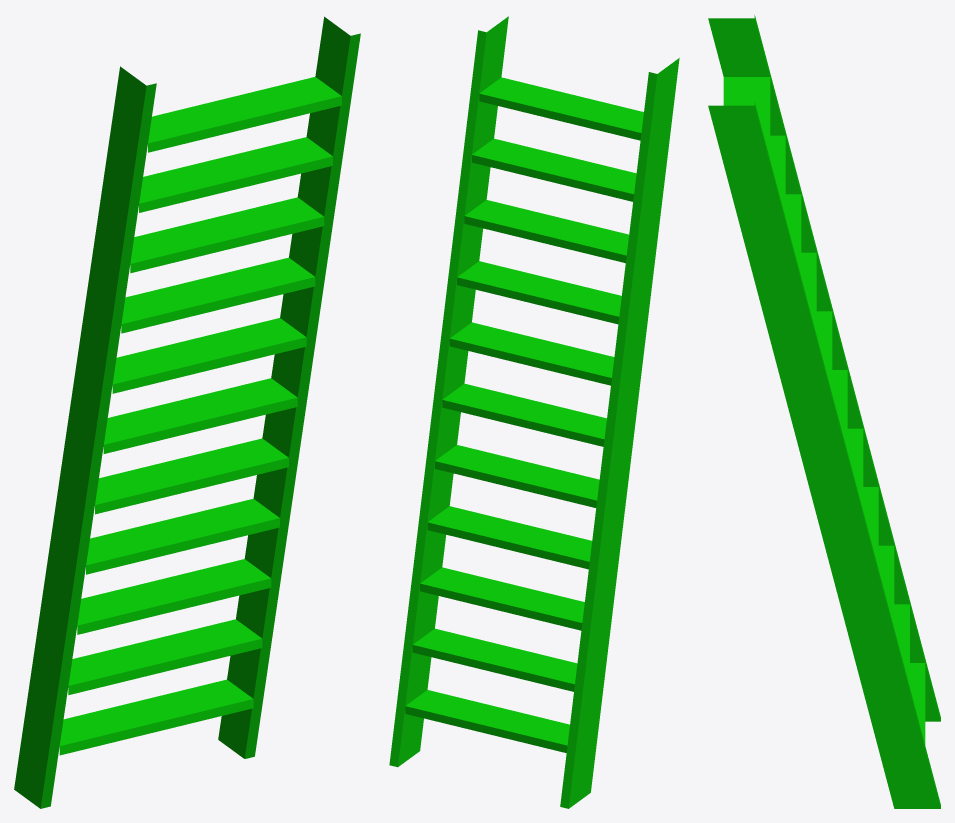
Rendered from stair_steep.glb.
The picture shows the model from 3 angles, left to right: view 1: azimuth 30°, elevation 25°; view 2: azimuth 150°, elevation 25°; view 3: azimuth 270°, elevation 25°; orthographic projection. The views are drawn at different scales.
Parts seen in each view (by area): view 1: stair_steep; view 2: stair_steep; view 3: stair_steep.
Part boxes in pixels (<box>): stair_steep: <box>14,16,360,808</box>; stair_steep: <box>389,16,679,808</box>; stair_steep: <box>708,15,940,808</box>.
Bounding box in the file's own units: 0.84 × 3 × 0.9.
